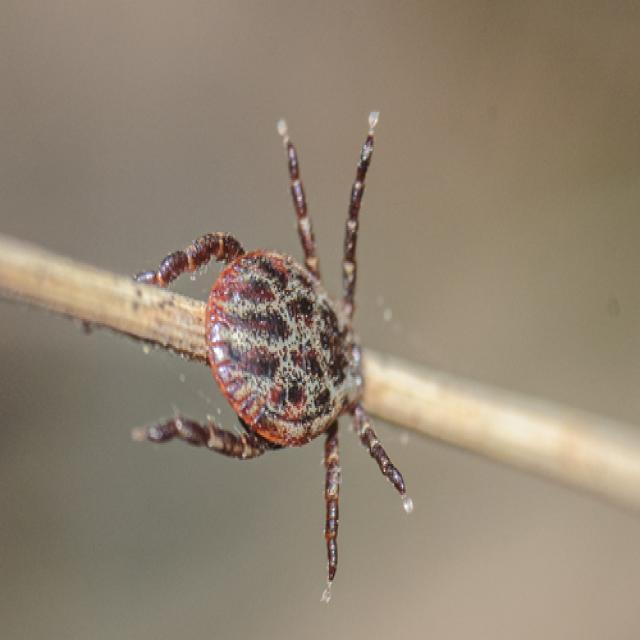Dermacentor Reticulatus-M: (132, 128, 412, 578)
